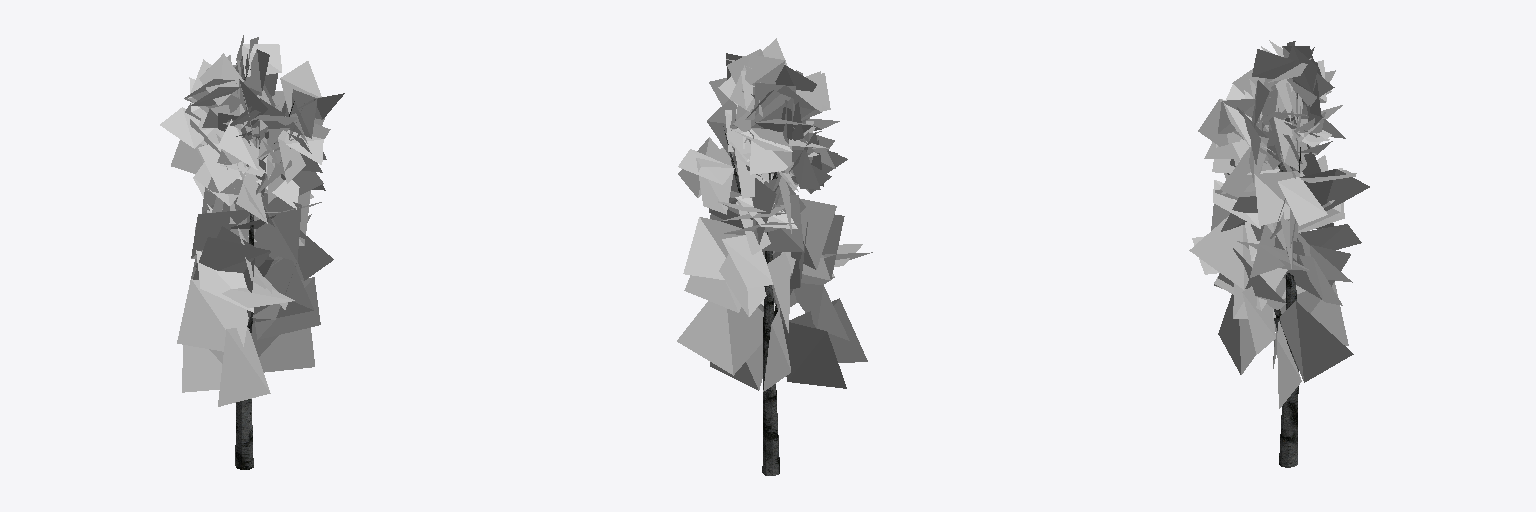
The picture shows the model from 3 angles: view 1: azimuth 30°, elevation 25°; view 2: azimuth 150°, elevation 25°; view 3: azimuth 270°, elevation 25°; orthographic projection.
Visible parts, largest first — view 1: birch; view 2: birch; view 3: birch.
Boxes of the visible parts, box(x1,y1,x2,y2) form: birch: box(160, 35, 344, 469); birch: box(677, 38, 872, 475); birch: box(1189, 40, 1369, 467).
Bounding box in the file's own units: 8.03 × 20.12 × 7.82.
2 materials, 1 textured.